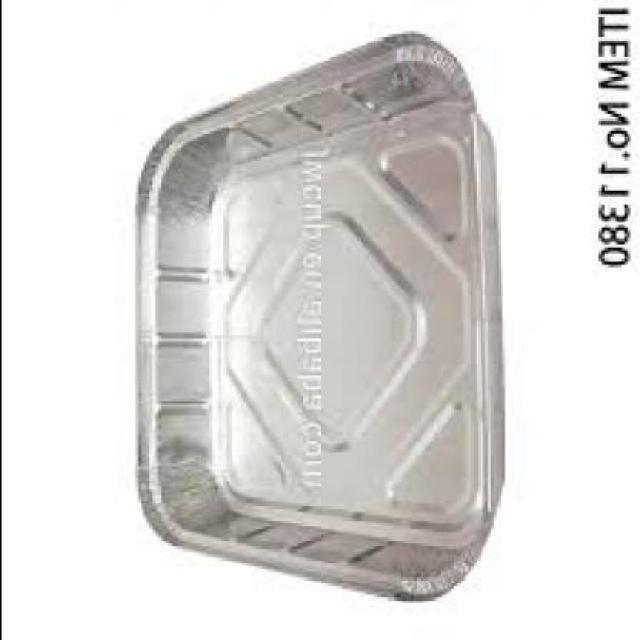METAL: (134, 28, 495, 601)
